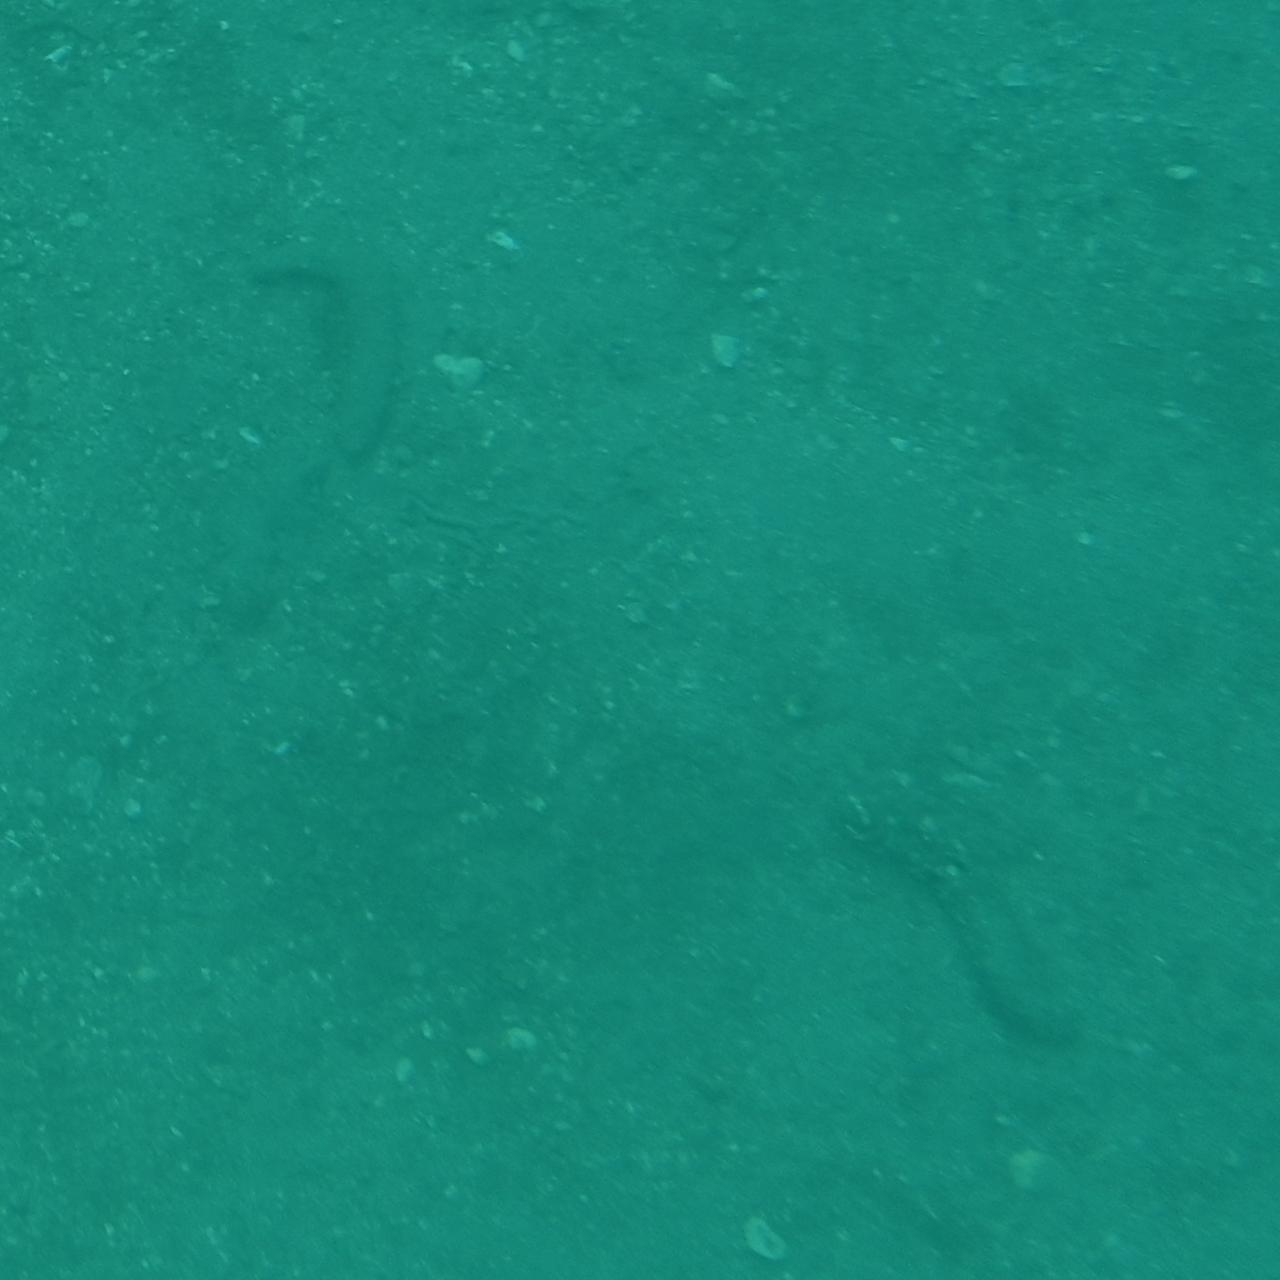Holothuria tubulosa: (818, 768, 1107, 1069), (241, 230, 396, 493)
